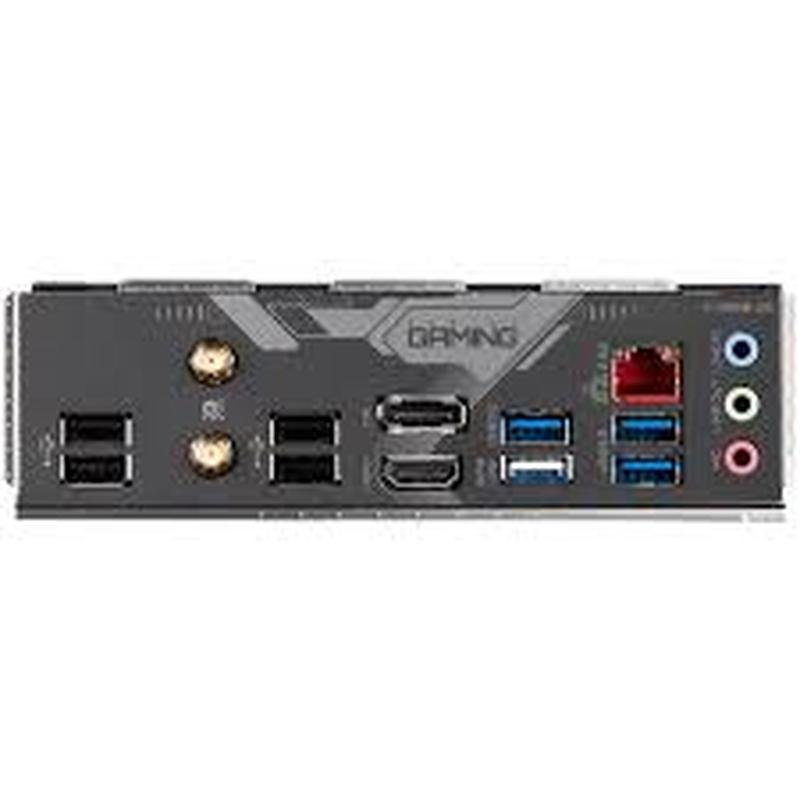AUDIO: (714, 323, 764, 376)
AUDIO_INPUT: (715, 386, 767, 424)
AUDIO_OUTPUT: (719, 434, 759, 475)
ETHERNET: (596, 330, 683, 402)
HDMI: (372, 382, 472, 436)
USB: (40, 445, 133, 495), (47, 401, 134, 446), (487, 405, 577, 445), (497, 450, 584, 488), (610, 450, 682, 494), (266, 453, 339, 493), (607, 414, 688, 448), (265, 411, 338, 448)
USBC: (374, 443, 465, 498)
